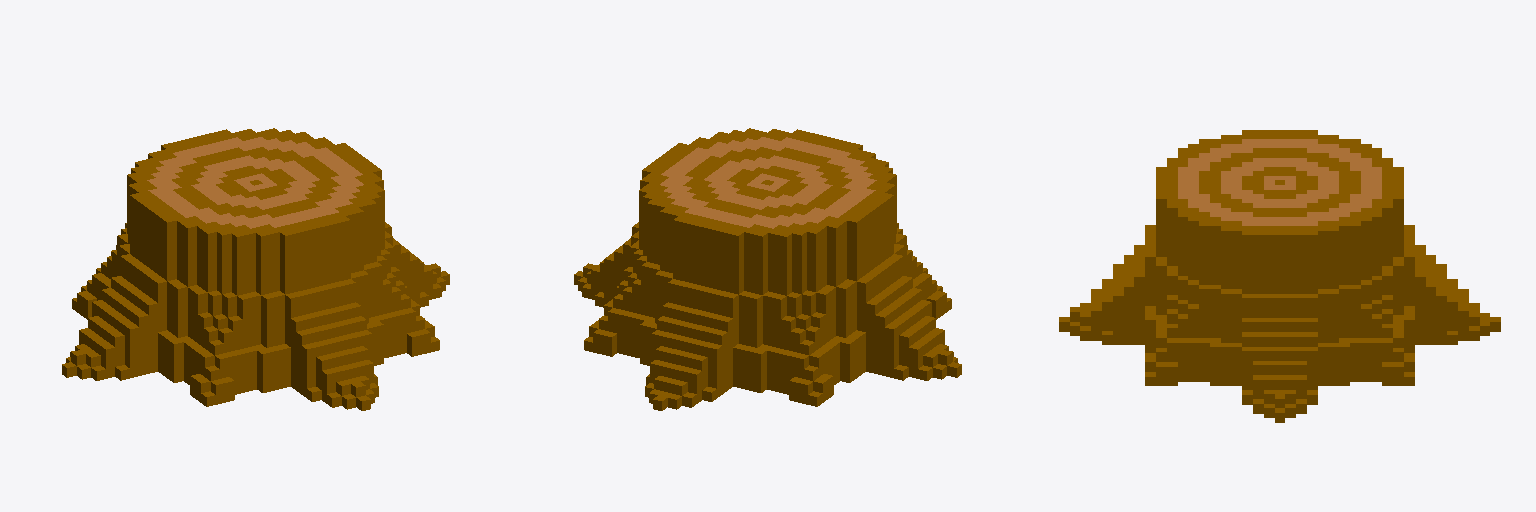
The picture shows the model from 3 angles: view 1: azimuth 30°, elevation 25°; view 2: azimuth 150°, elevation 25°; view 3: azimuth 270°, elevation 25°; orthographic projection.
Size of the model in its own units: 41 by 15 by 41.
Materials: 1 (1 with a texture image).